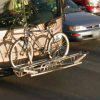Bicycle: (8, 15, 75, 68)
